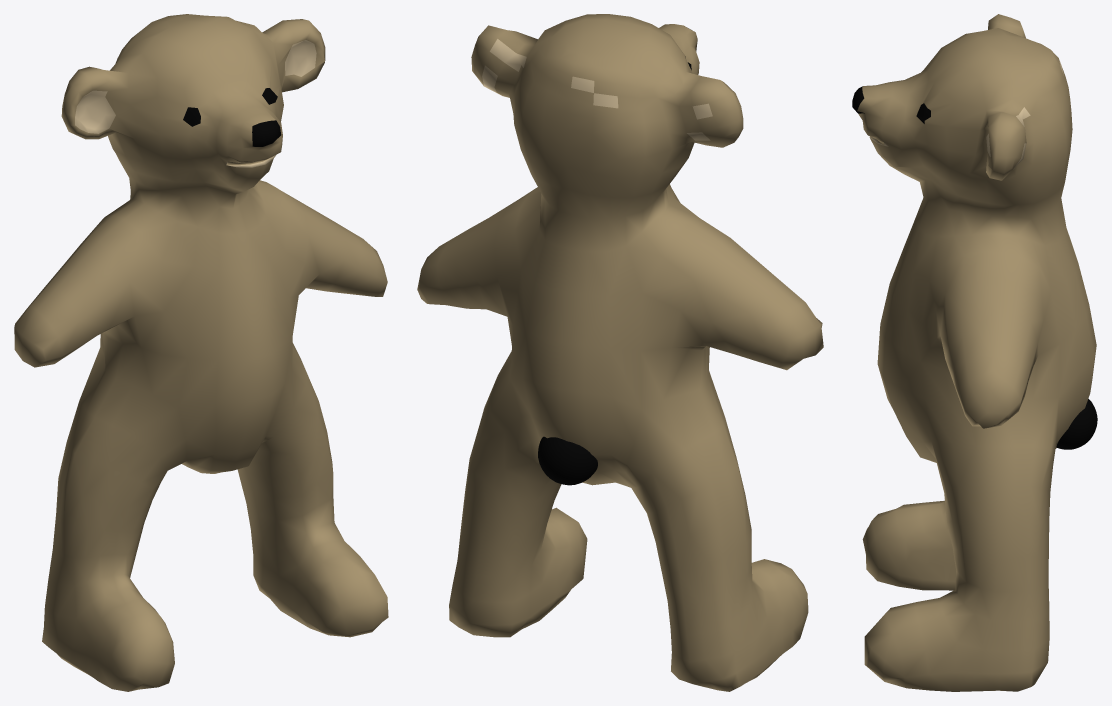
Rendered from bear (1).fbx.
3 views of the same model, side by side, from view 1: azimuth 30°, elevation 25°; view 2: azimuth 150°, elevation 25°; view 3: azimuth 270°, elevation 25° (orthographic). The views are drawn at different scales.
Visible parts, largest first — view 1: pSphere2; view 2: pSphere2; view 3: pSphere2.
Part boxes in pixels (bbox=[...]): pSphere2: bbox=[14, 14, 388, 691]; pSphere2: bbox=[417, 14, 823, 691]; pSphere2: bbox=[852, 14, 1097, 691].
Bounding box in the file's own units: 7.46 × 11.61 × 4.4.
